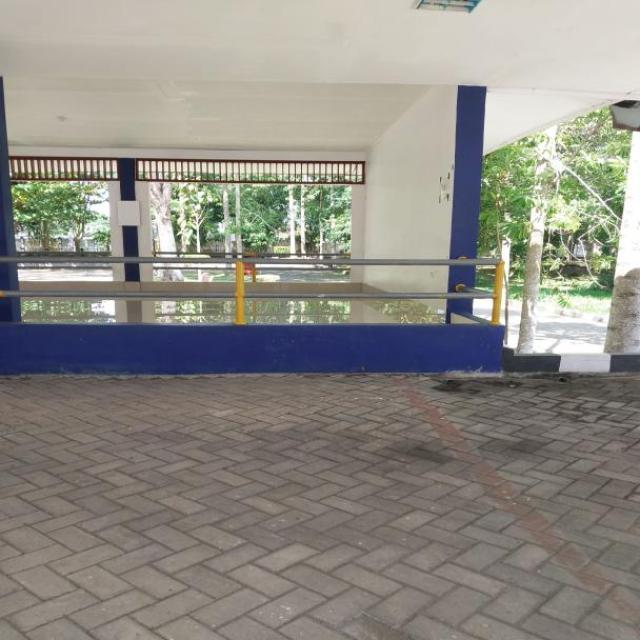barrier ahead at: (0, 245, 511, 372)
